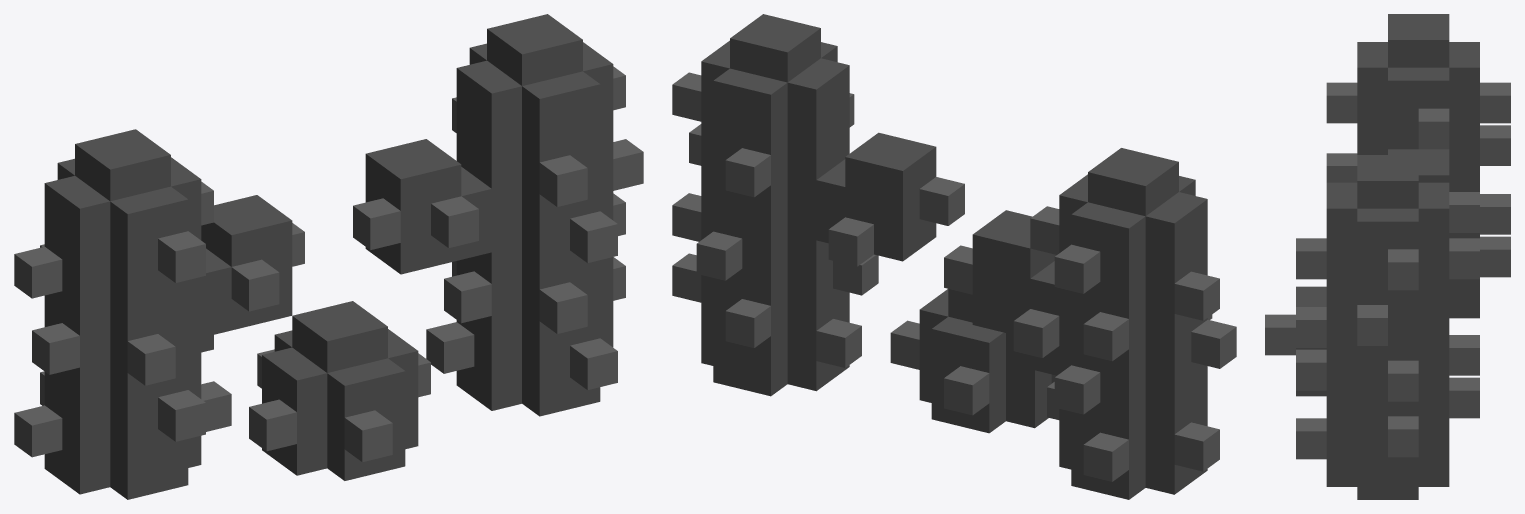
Rendered from Cactus_2x1.gltf.
3 renders of one model, left to right at view 1: azimuth 30°, elevation 25°; view 2: azimuth 150°, elevation 25°; view 3: azimuth 270°, elevation 25°, orthographic. The views are drawn at different scales.
Size of the model in its own units: 1.9 by 1.1 by 0.8.
Materials: 1 (1 with a texture image).
